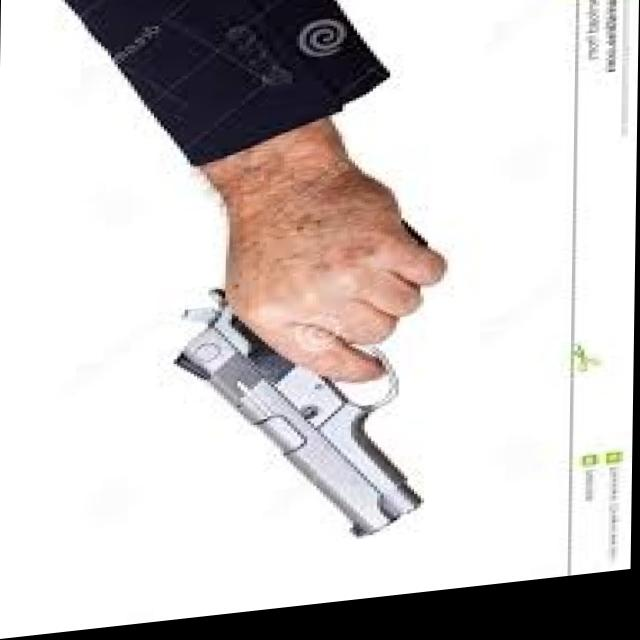handgun: (171, 278, 427, 565)
